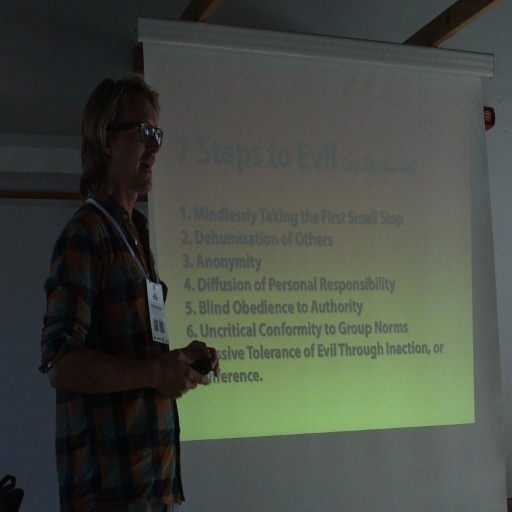hand: (184, 338, 220, 381)
